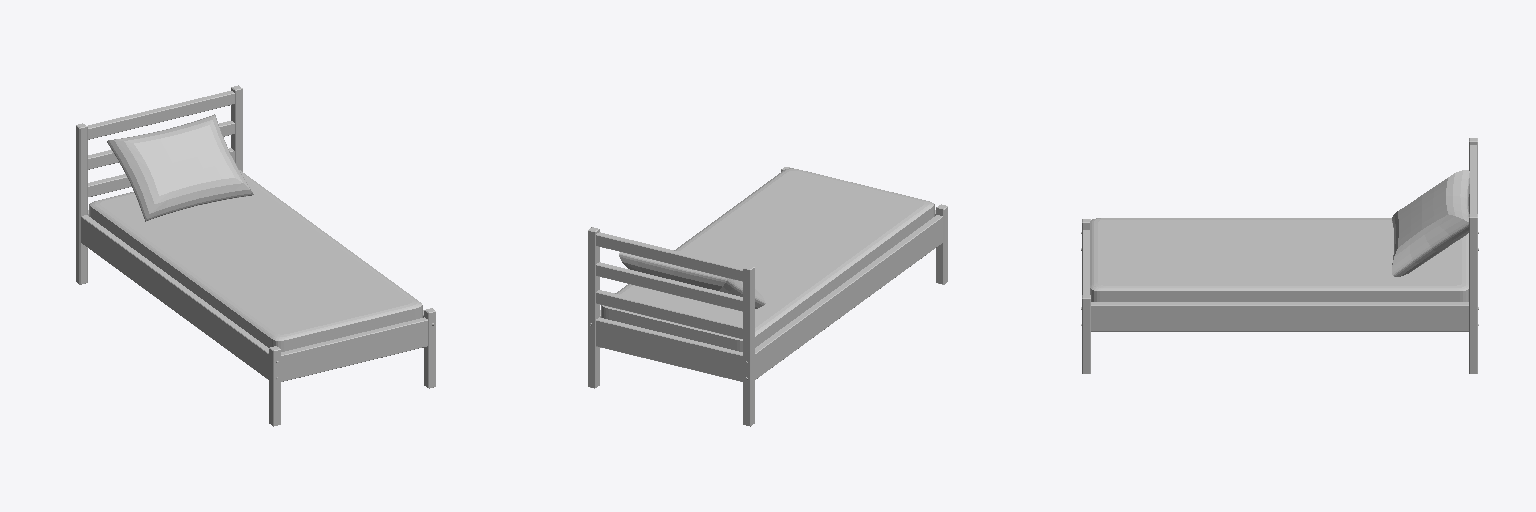
File: cama_sencilla.obj
3 renders of one model, left to right at view 1: azimuth 30°, elevation 25°; view 2: azimuth 150°, elevation 25°; view 3: azimuth 270°, elevation 25°, orthographic.
Parts seen in each view (by area): view 1: BedMattress, BedFrame, BedPillow; view 2: BedMattress, BedFrame, BedPillow; view 3: BedMattress, BedFrame, BedPillow.
Part boxes in pixels (x1,y1,x2,y2): BedMattress: (89, 170, 422, 351); BedFrame: (76, 85, 435, 426); BedPillow: (107, 114, 253, 221); BedMattress: (601, 168, 934, 351); BedFrame: (588, 167, 947, 426); BedPillow: (619, 252, 765, 308); BedMattress: (1090, 218, 1468, 301); BedFrame: (1081, 138, 1478, 373); BedPillow: (1392, 170, 1469, 276).
Size of the model in its own units: 1 by 0.9185 by 2.11.